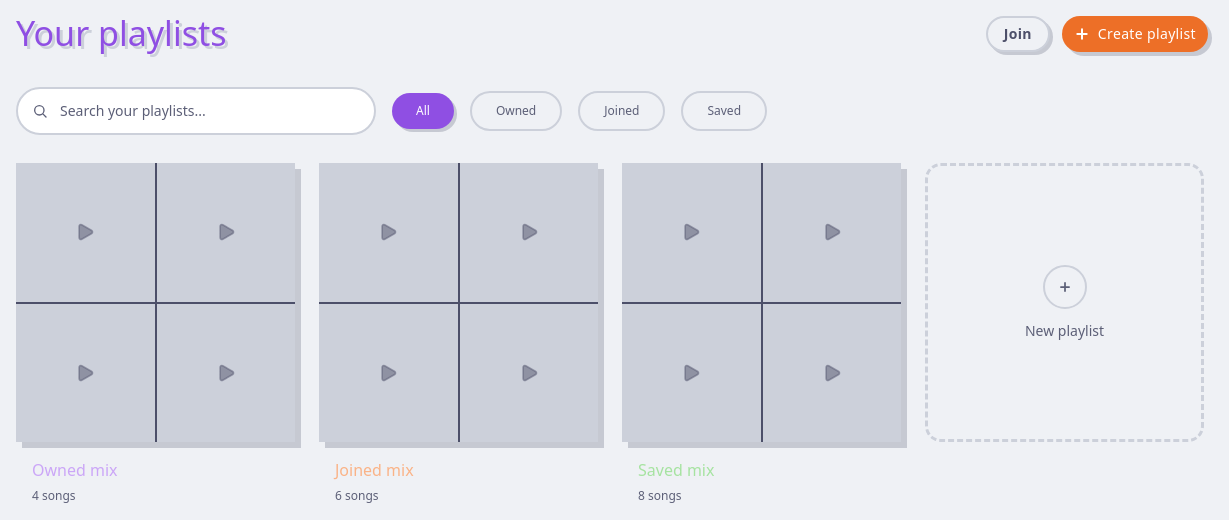
PlaylistsPage library tabs › lists only owned playlists on the Owned tab
Click the button "Owned".
click(516, 111)  # box [470,91,562,131]
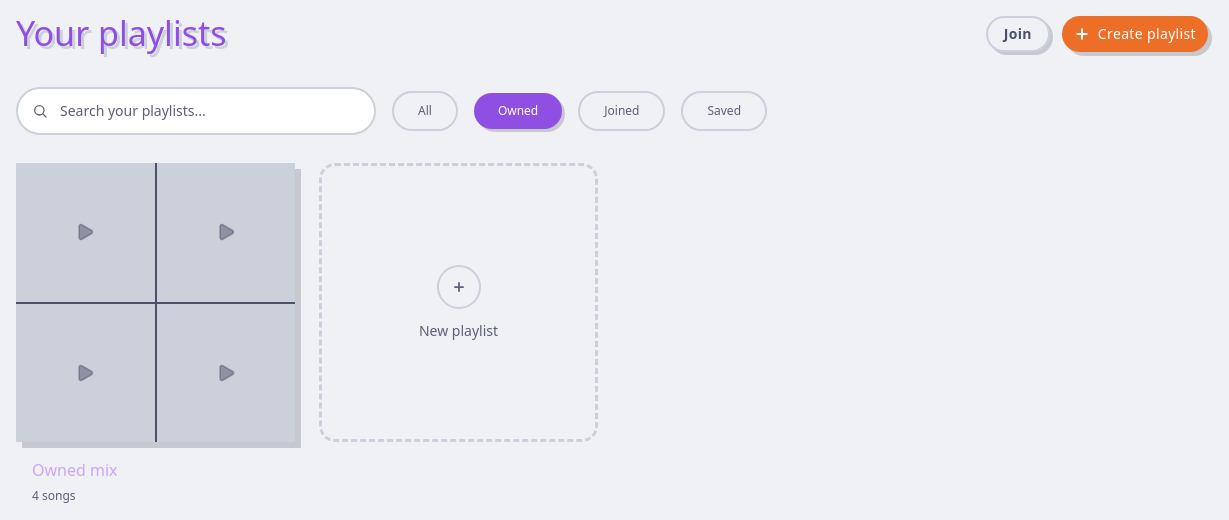
Check: the text "Owned mix" is shown, box [32,459,118,481]
Check: the link "Joined mix" is gone
Check: the link "Saved mix" is gone
